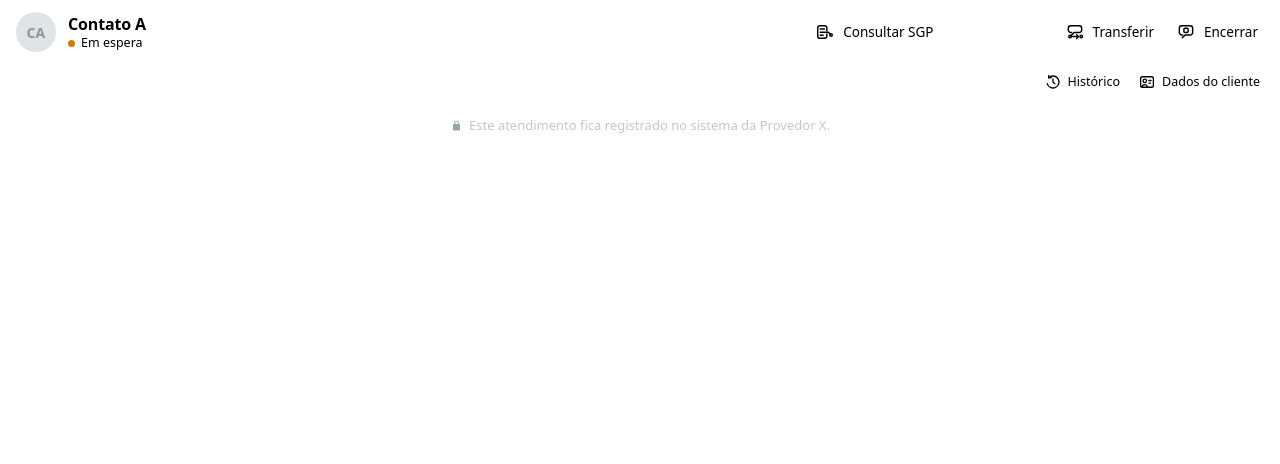
estado canônico da conversa › {"status":"waiting","assignedAgentId":null}: o painel diz o mesmo que o cabeçalho — "Em espera"
This screenshot has width=1280, height=464.
Click the button "Dados do cliente": (1199, 82) [1130,66,1268,98]
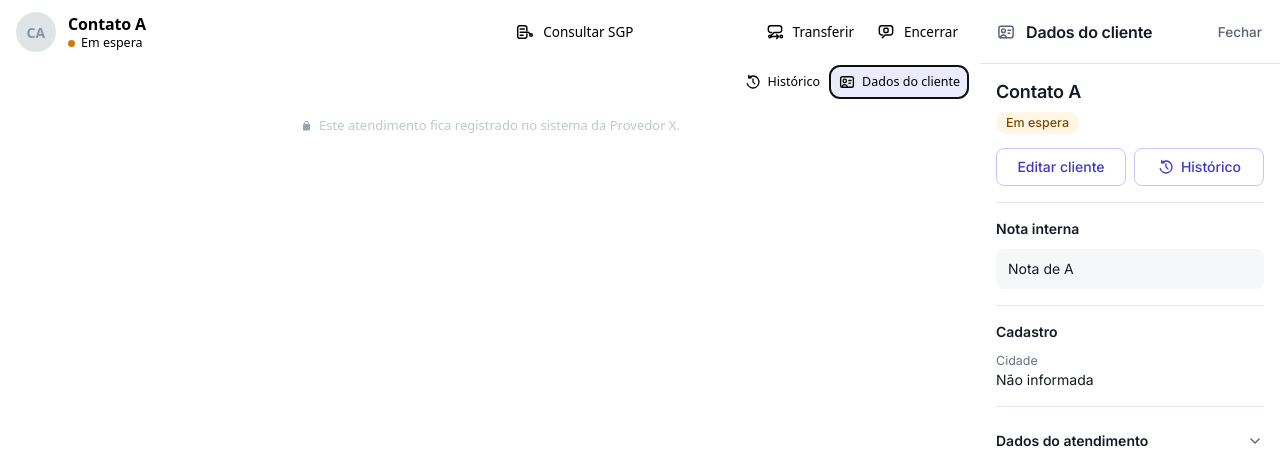
Expected: the 2nd text "Em espera" is shown, [996,112,1079,134]
Expected: the text "Em espera" is shown 2 times, [81,35,143,51]; [996,112,1079,134]
